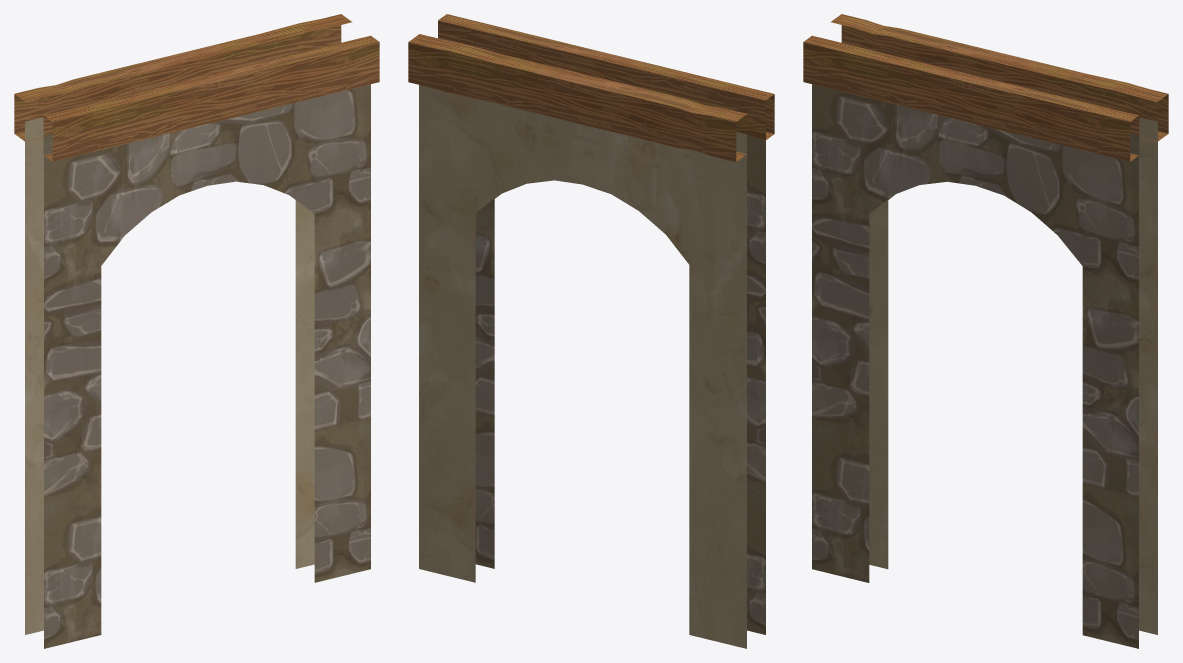
The model's file is Wall_UnevenBrick_Door_Round.gltf.
3 views of the same model, side by side, from view 1: azimuth 30°, elevation 25°; view 2: azimuth 150°, elevation 25°; view 3: azimuth 330°, elevation 25° (orthographic).
Visible parts, largest first — view 1: Wall_UnevenBrick_Door_Round; view 2: Wall_UnevenBrick_Door_Round; view 3: Wall_UnevenBrick_Door_Round.
Part boxes in pixels (x1,y1,x2,y2): Wall_UnevenBrick_Door_Round: (14, 14, 379, 648); Wall_UnevenBrick_Door_Round: (408, 14, 774, 648); Wall_UnevenBrick_Door_Round: (803, 14, 1168, 648).
Size of the model in its own units: 2 by 3.12 by 0.4065.
3 materials, 3 textured.
